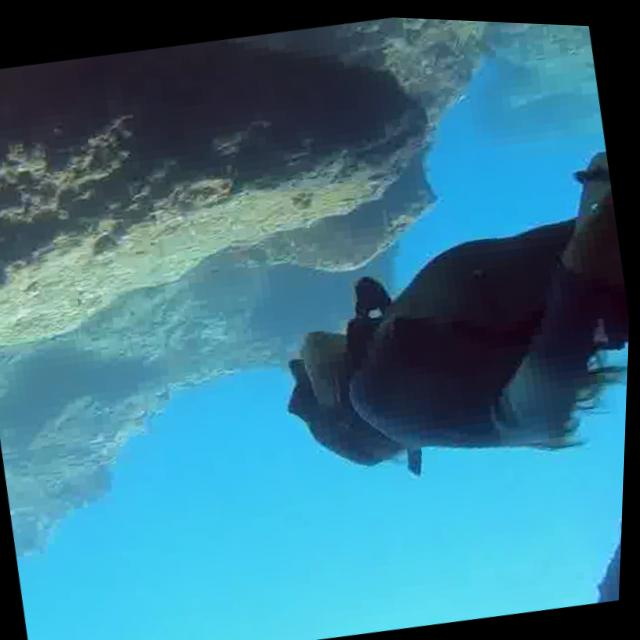human: (240, 99, 637, 508)
